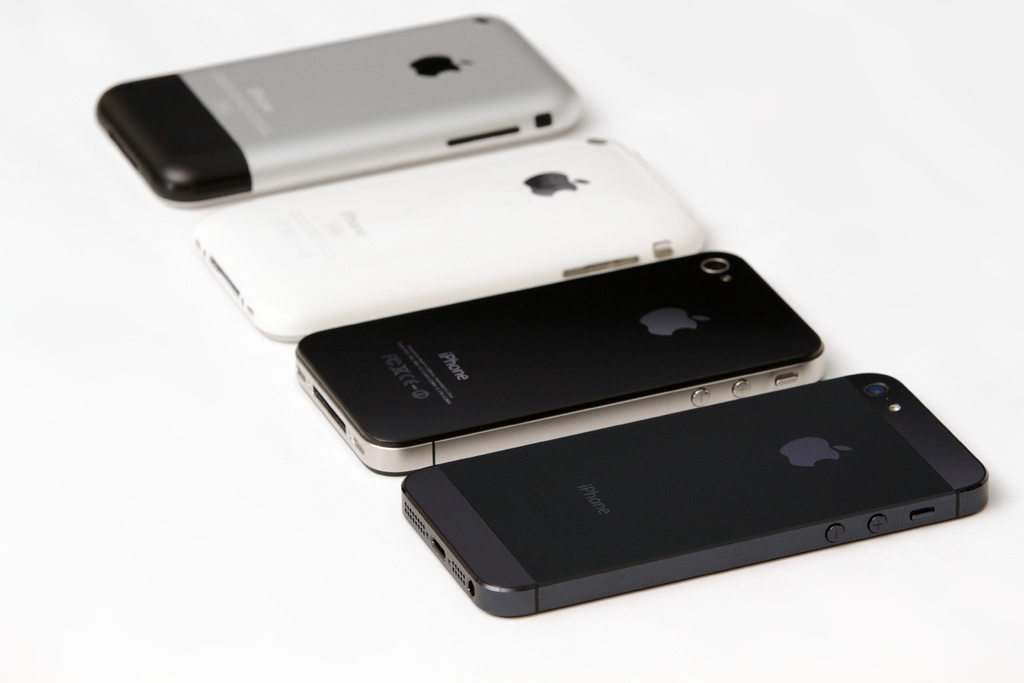Mobile-phone: (399, 372, 989, 616), (291, 248, 826, 475), (191, 131, 708, 342), (89, 13, 584, 208)
